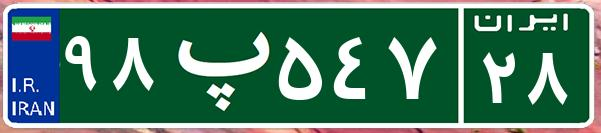2: (475, 38, 525, 113)
4: (330, 28, 385, 110)
5: (273, 28, 330, 110)
7: (385, 28, 445, 110)
8: (110, 28, 158, 105), (525, 38, 570, 115)
9: (57, 26, 110, 107)
پ: (158, 15, 273, 115)
